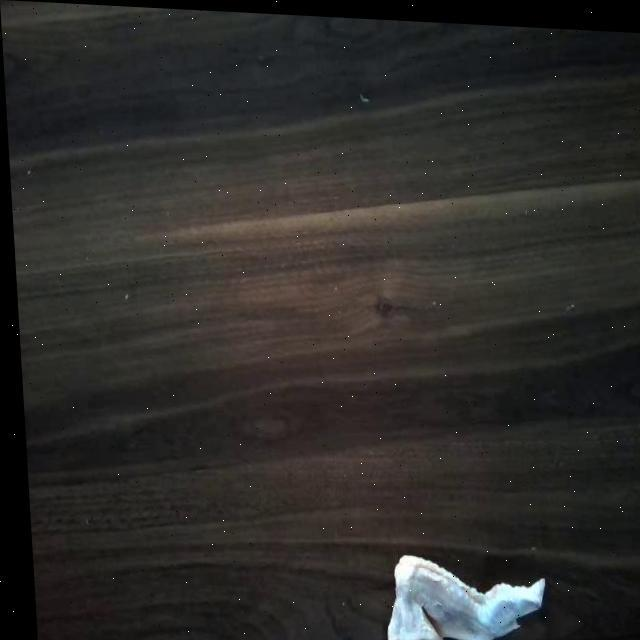wing: (374, 540, 552, 640)
